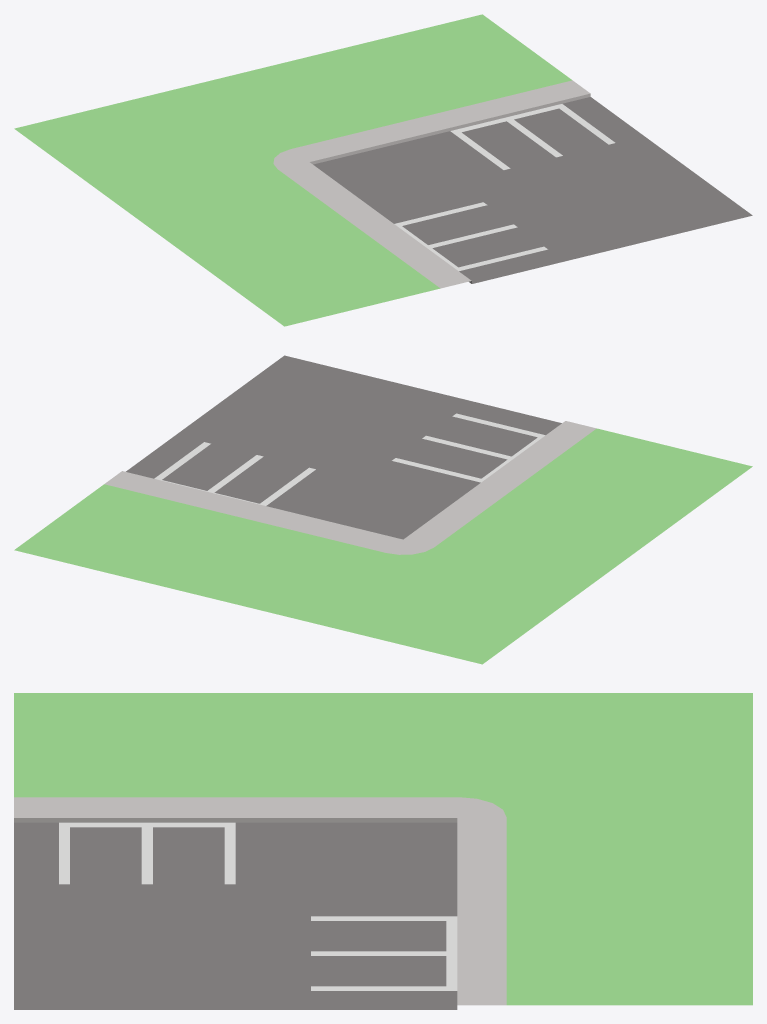
File: tile_parking_lot_corner.fbx
3 views of the same model, one above another, from view 1: azimuth 30°, elevation 25°; view 2: azimuth 150°, elevation 25°; view 3: azimuth 270°, elevation 25° (orthographic). The views are drawn at different scales.
Parts seen in each view (by area): view 1: Plane.003; view 2: Plane.003; view 3: Plane.003.
Part boxes in pixels (left/top/right/bottom): Plane.003: left=14, top=14, right=752, bottom=326; Plane.003: left=14, top=355, right=752, bottom=664; Plane.003: left=14, top=693, right=752, bottom=1009.
Bounding box in the file's own units: 3000 × 20 × 3000.
